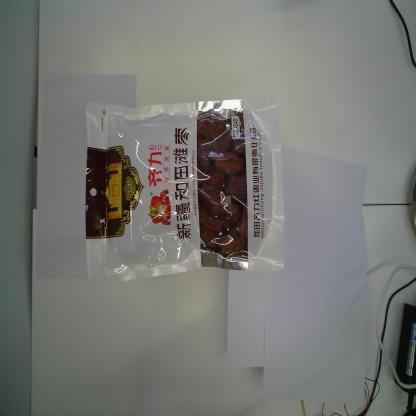Dried Food: (83, 96, 286, 284)
